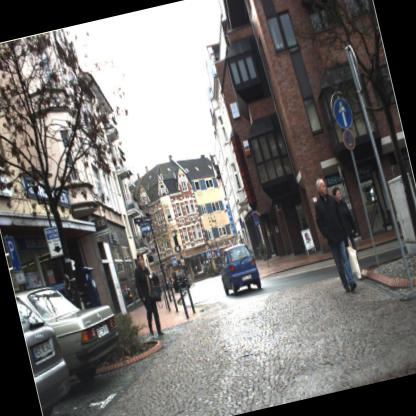mandatory: (328, 93, 356, 134), (168, 250, 180, 270)
